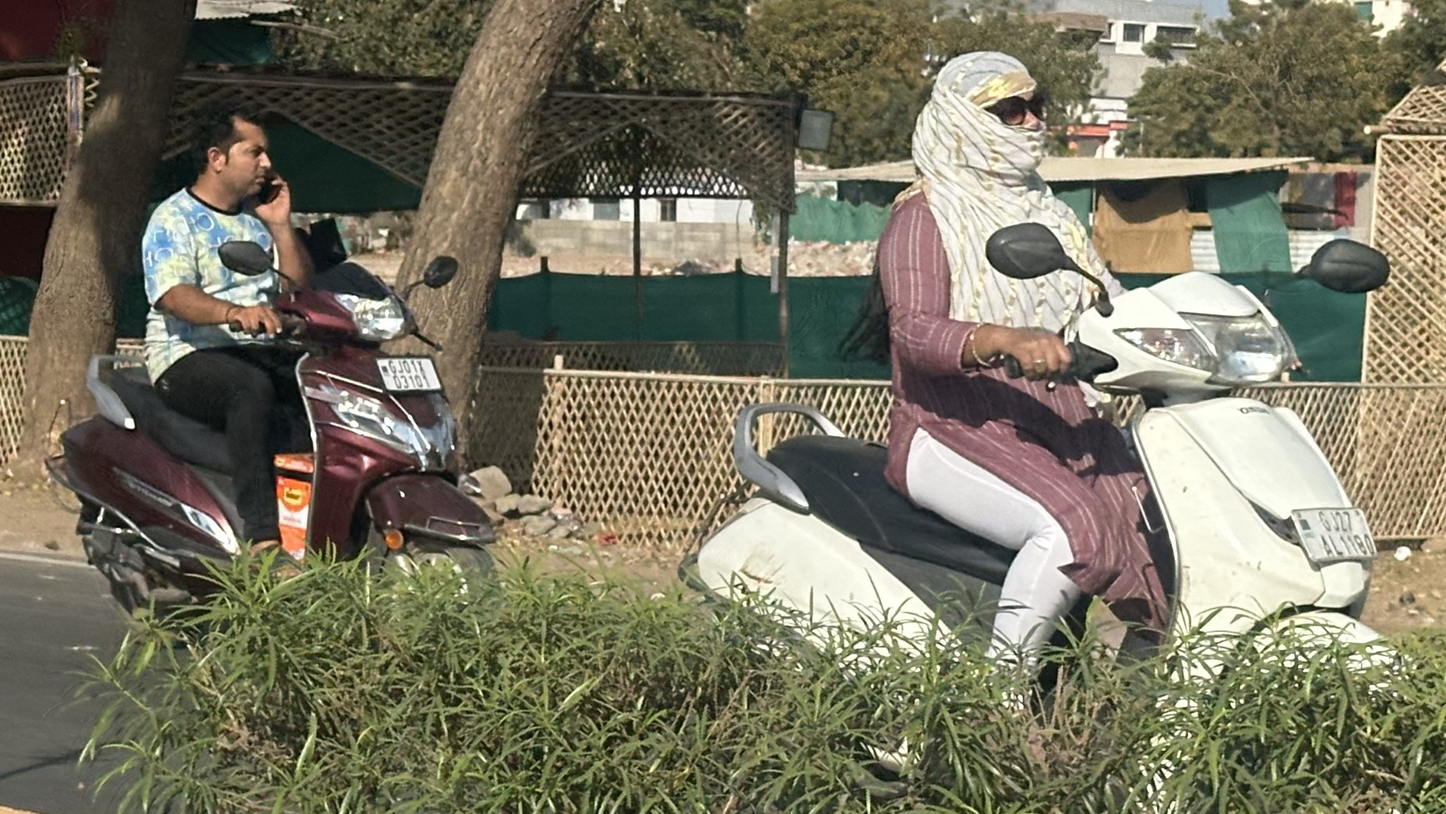BikeWithRider: (660, 39, 1420, 812), (30, 97, 520, 652)
NoHelmet: (900, 42, 1071, 193), (178, 101, 289, 210)
